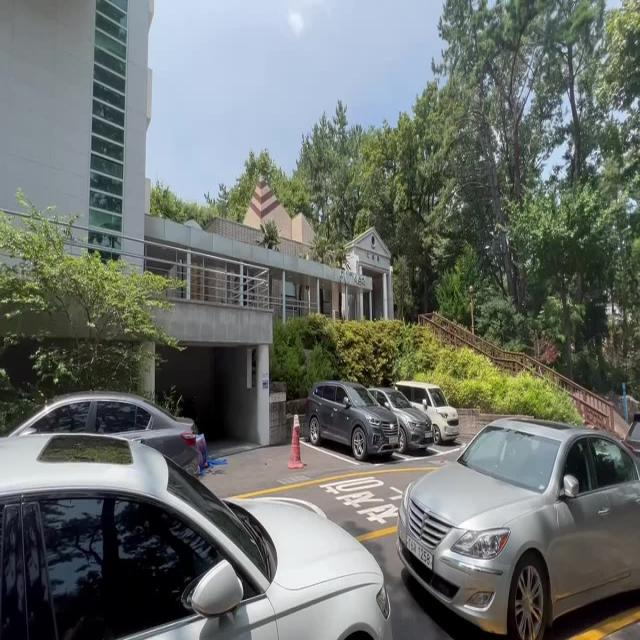building: (174, 175, 393, 324)
